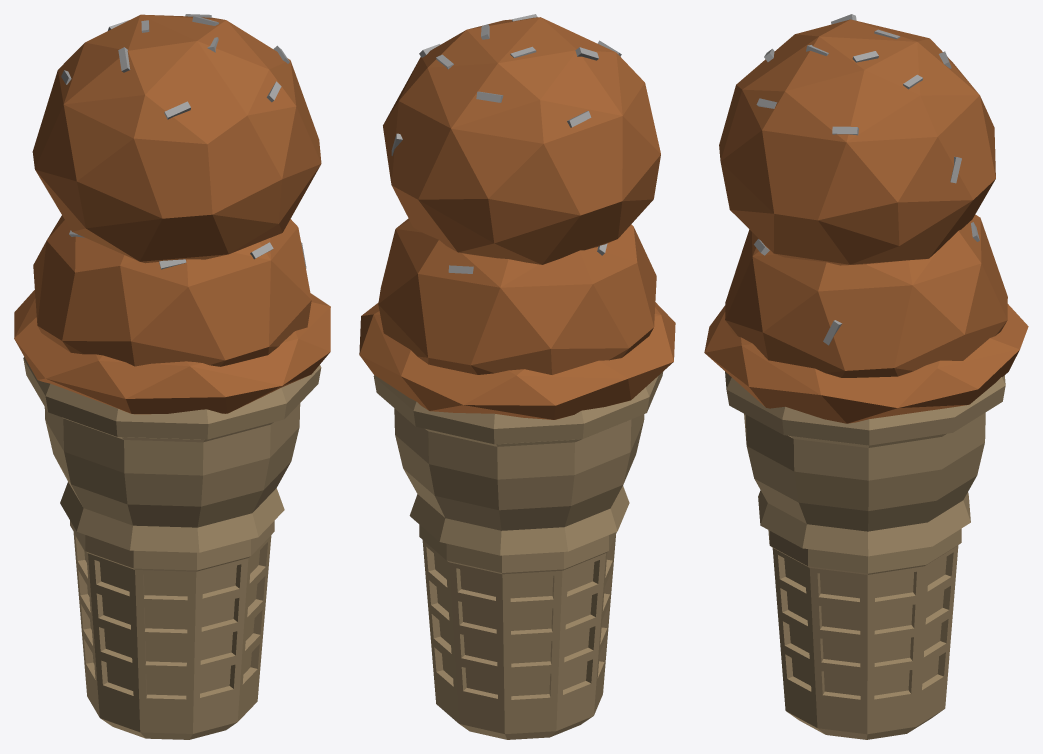
The model's file is IceCream_4.glb.
3 views of the same model, side by side, from view 1: azimuth 30°, elevation 25°; view 2: azimuth 150°, elevation 25°; view 3: azimuth 270°, elevation 25° (orthographic).
Parts seen in each view (by area): view 1: Orange, LightYellow, White; view 2: Orange, LightYellow, White; view 3: Orange, LightYellow, White.
Part boxes in pixels (box(x1,y1,x2,y2)): Orange: box(14, 14, 330, 414); LightYellow: box(23, 357, 321, 739); White: box(61, 14, 306, 269); Orange: box(359, 17, 675, 419); LightYellow: box(373, 372, 662, 739); White: box(391, 14, 621, 273); Orange: box(704, 19, 1028, 423); LightYellow: box(725, 371, 1005, 739); White: box(754, 14, 979, 345).
Size of the model in its own units: 0.5155 by 1.18 by 0.5155.
